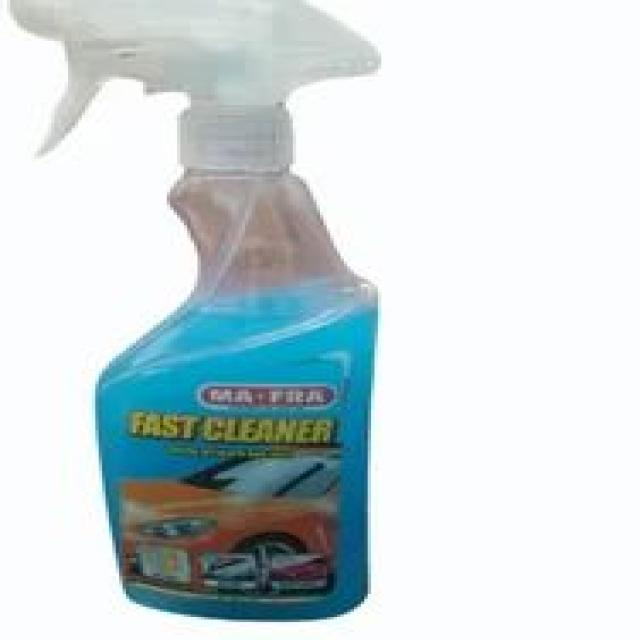winwinshield_washer: (0, 0, 391, 624)
